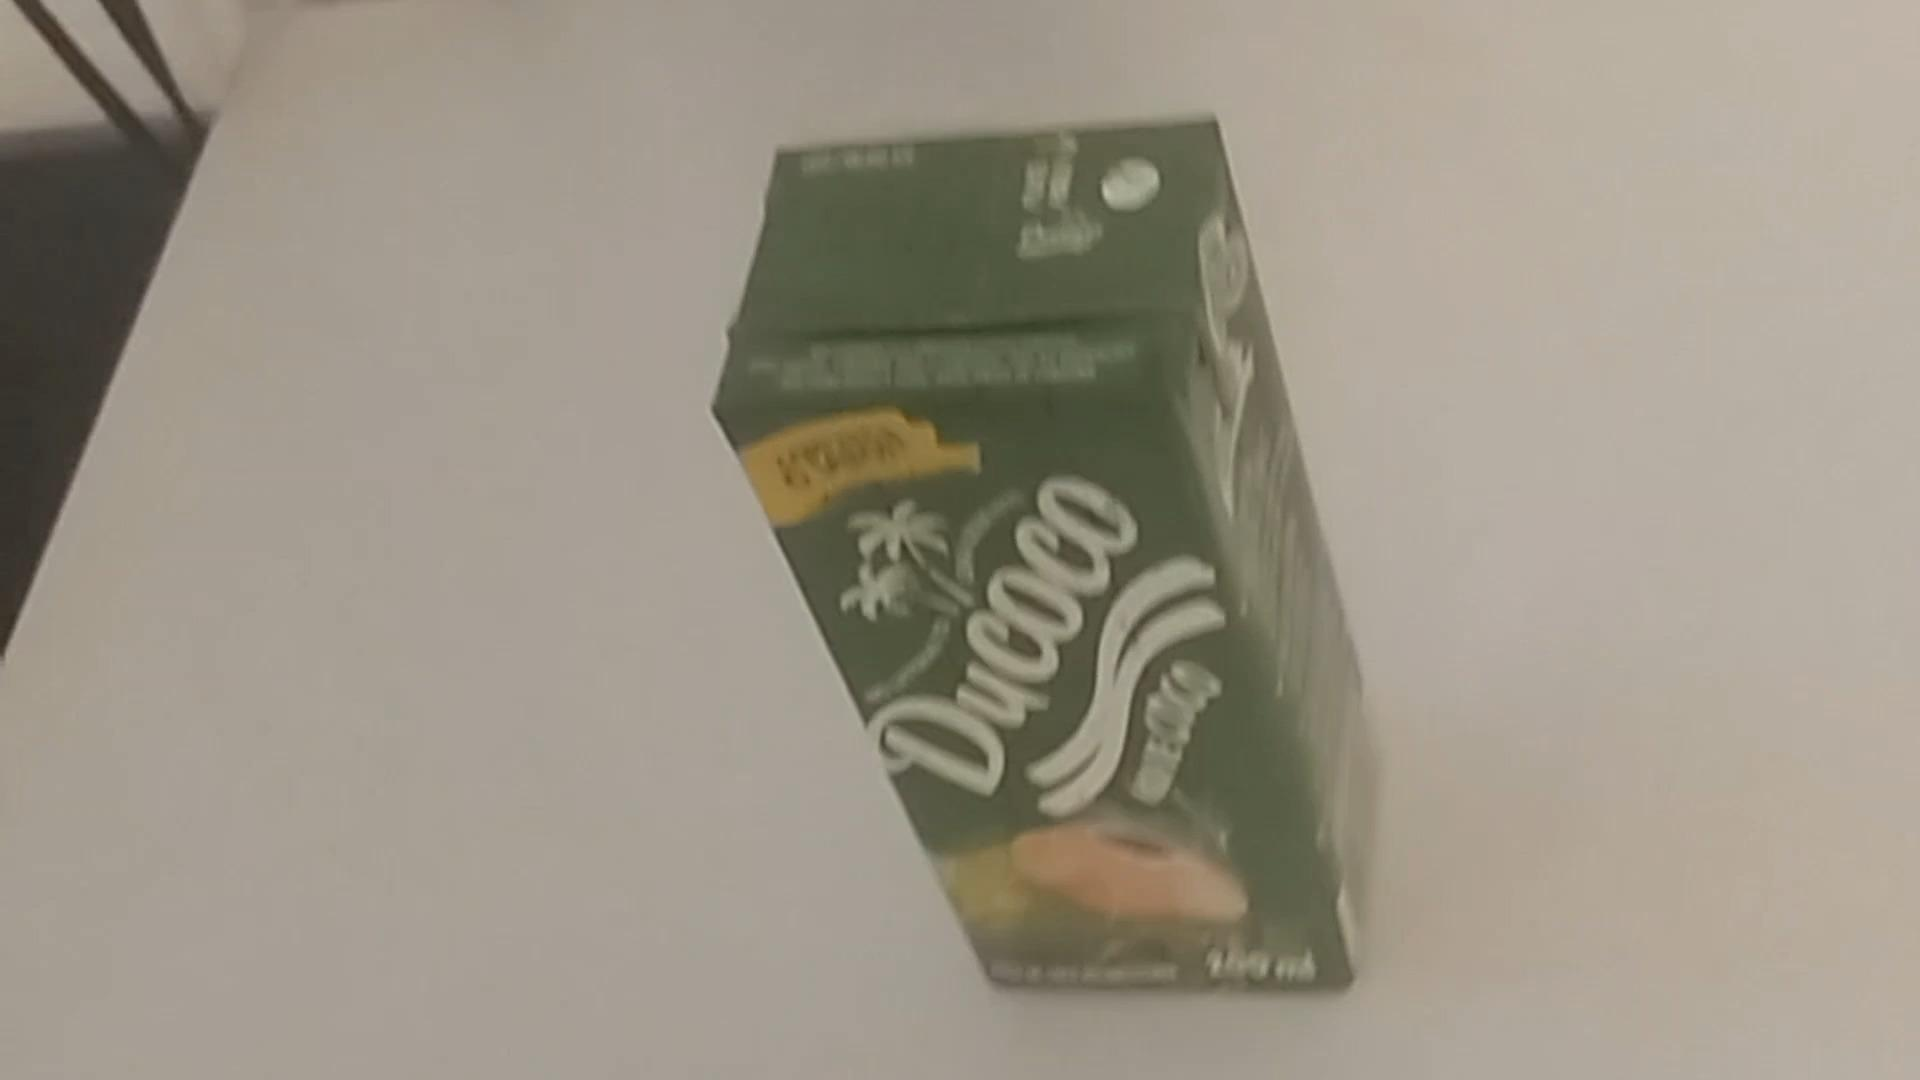coco: (711, 111, 1365, 1007)
